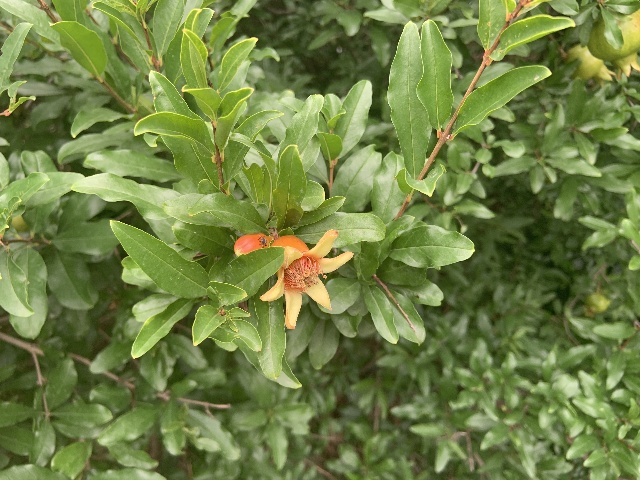bud: (234, 233, 270, 256)
early-fruit: (259, 229, 354, 329)
mid-growth: (587, 7, 640, 79), (566, 44, 616, 87)
